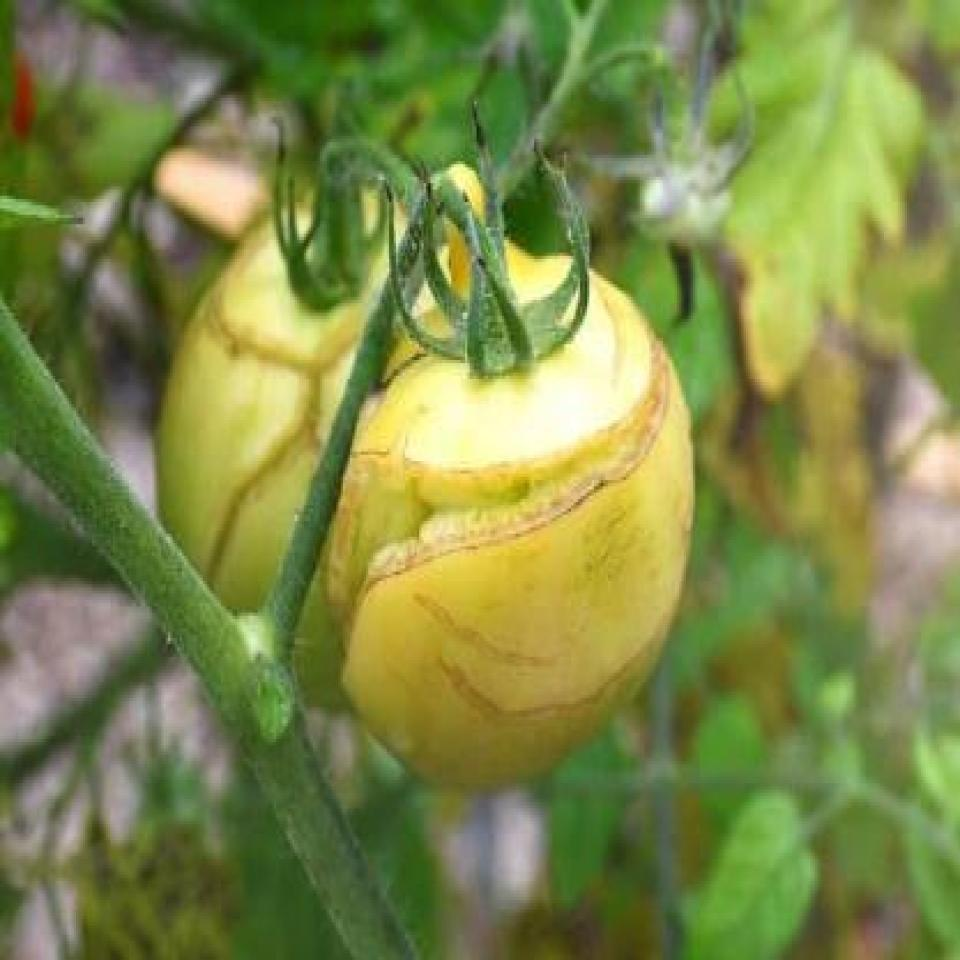Cracking: (294, 292, 691, 640), (181, 323, 325, 606), (184, 225, 312, 383)
